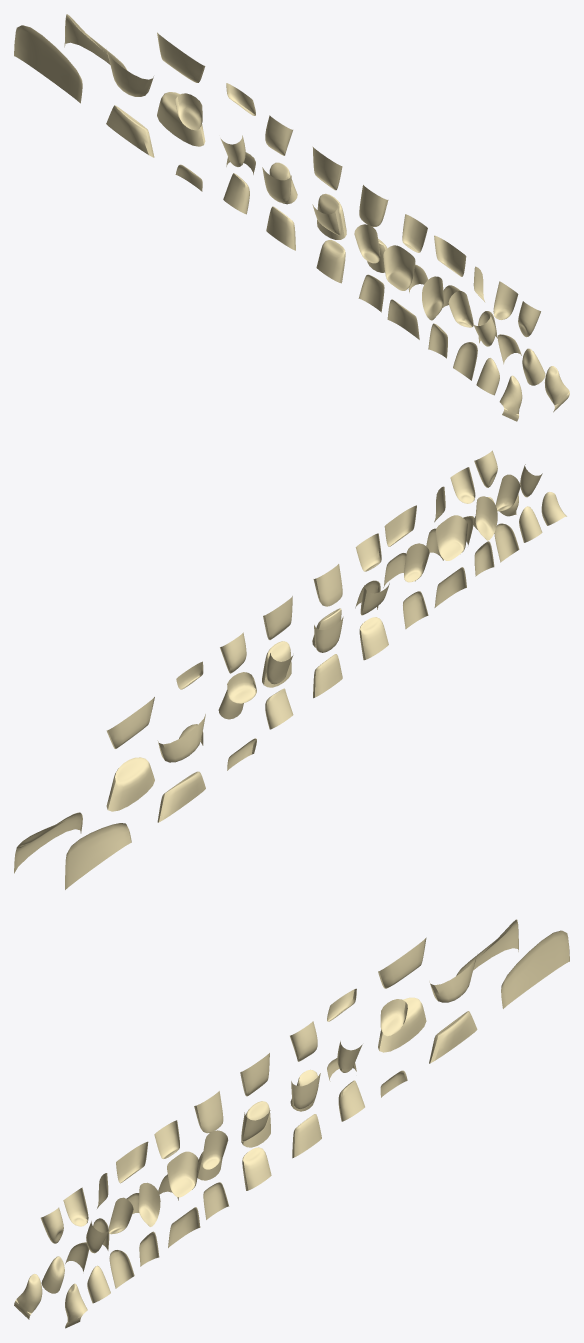
File: Tunel2(Dientes).gltf
The picture shows the model from 3 angles, top to bottom: view 1: azimuth 30°, elevation 25°; view 2: azimuth 150°, elevation 25°; view 3: azimuth 330°, elevation 25°; orthographic projection.
Visible parts, largest first — view 1: Tubo; view 2: Tubo; view 3: Tubo.
Boxes of the visible parts, left/top/right/bottom form: Tubo: left=14, top=14, right=569, bottom=421; Tubo: left=14, top=450, right=566, bottom=889; Tubo: left=14, top=919, right=569, bottom=1328.
Bounding box in the file's own units: 0.0743 × 0.0945 × 0.9217.
